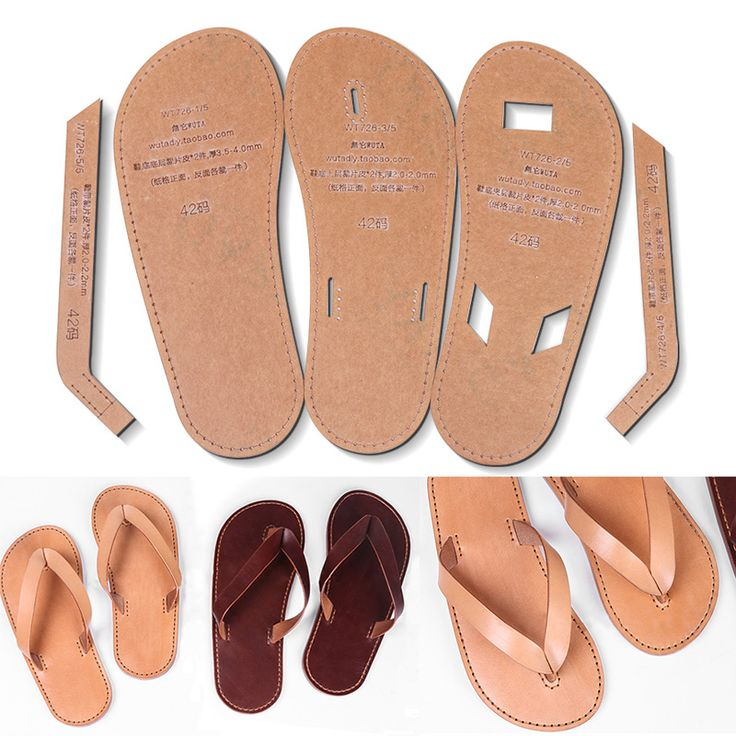cuero: (1, 478, 736, 731)
